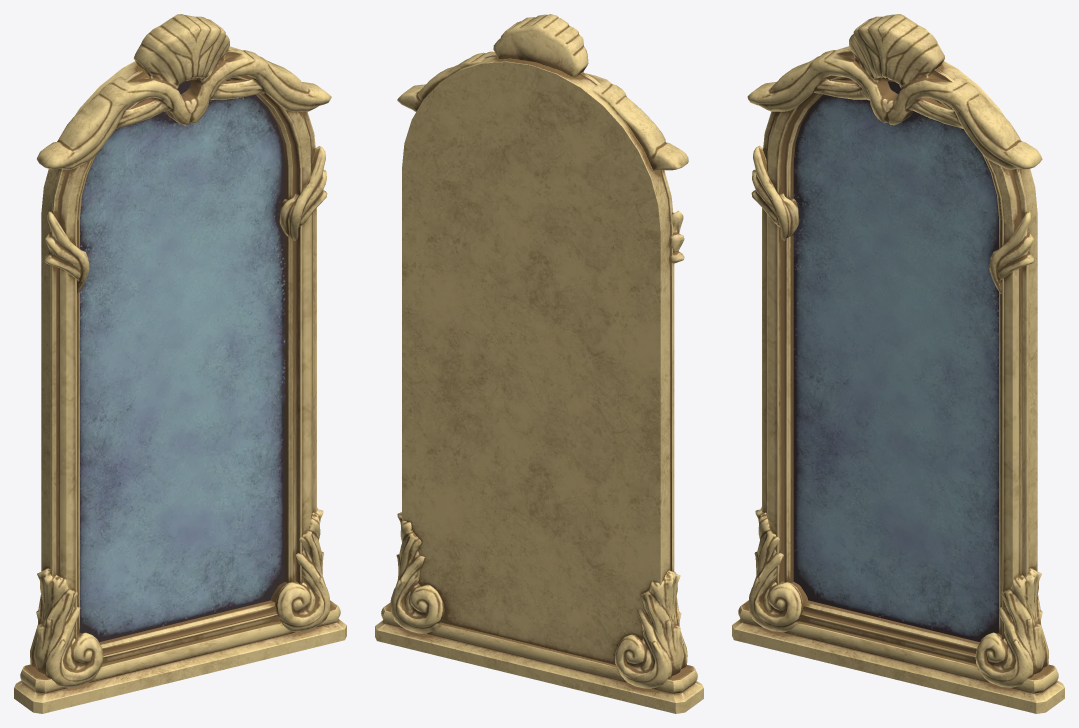
File: mirror_magic_allyc3d.glb
The picture shows the model from 3 angles, left to right: view 1: azimuth 30°, elevation 25°; view 2: azimuth 150°, elevation 25°; view 3: azimuth 330°, elevation 25°; orthographic projection.
Visible parts, largest first — view 1: defaultMaterial (×2); view 2: defaultMaterial; view 3: defaultMaterial (×2).
Part boxes in pixels (x1,y1,x2,y2): defaultMaterial (×2): [14, 14, 346, 713]; defaultMaterial: [375, 14, 703, 713]; defaultMaterial (×2): [732, 14, 1064, 713].
Bounding box in the file's own units: 144 × 286 × 24.75.
2 materials, 2 textured.
